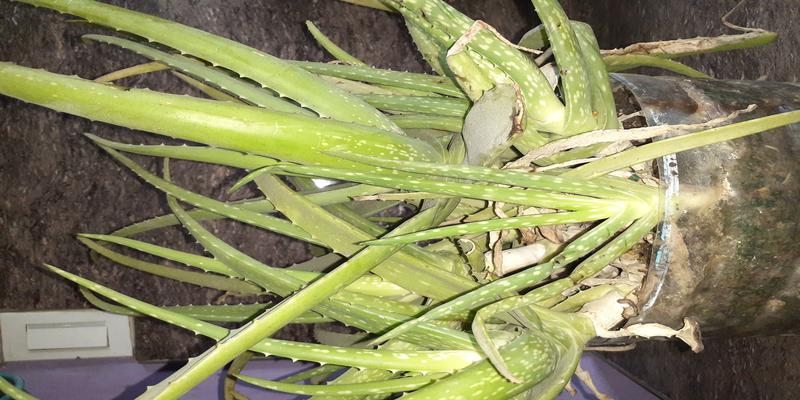Aloevera: (117, 18, 651, 379)
